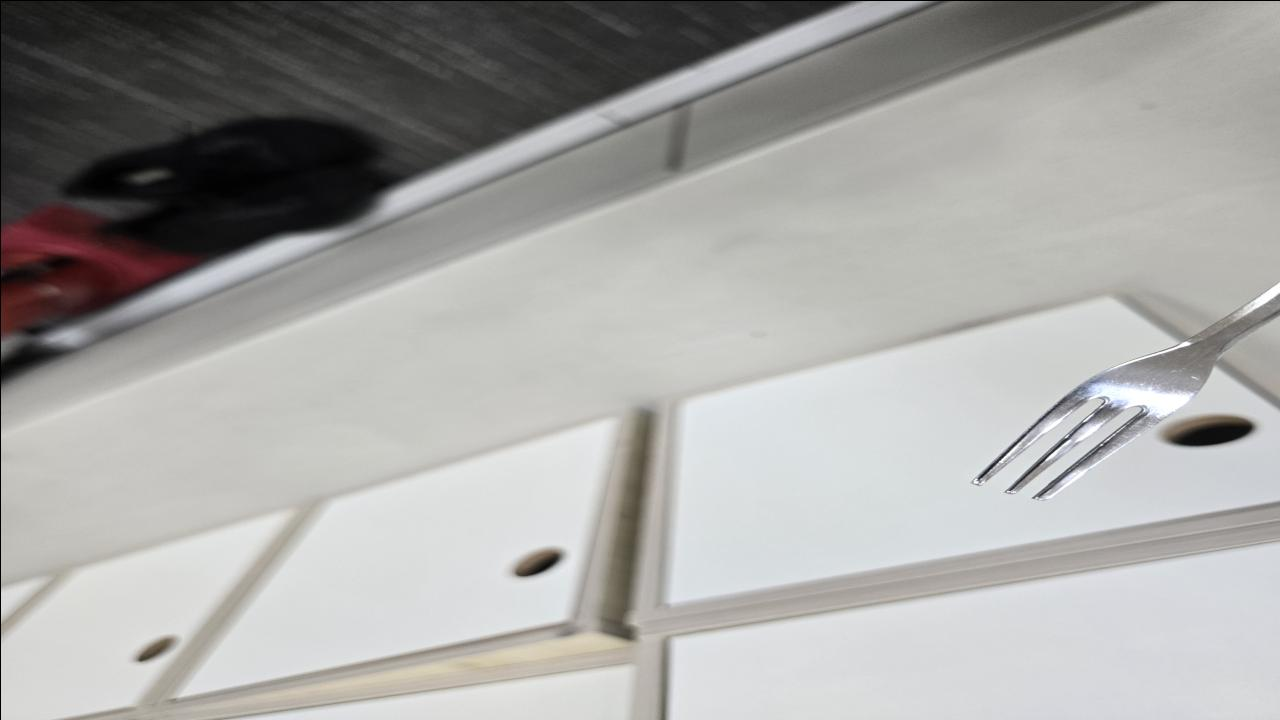fork: (969, 283, 1280, 500)
